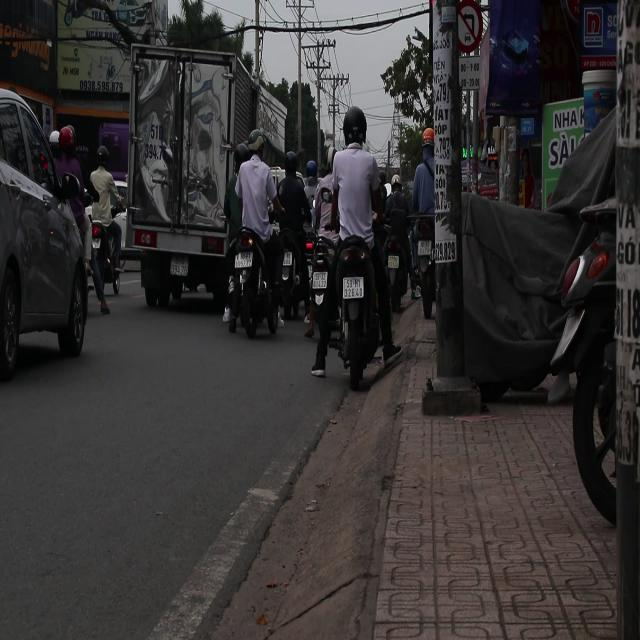car: (1, 70, 93, 390)
motorbike: (320, 235, 389, 391), (226, 228, 280, 340), (89, 217, 122, 303)
truck: (124, 29, 287, 314)
